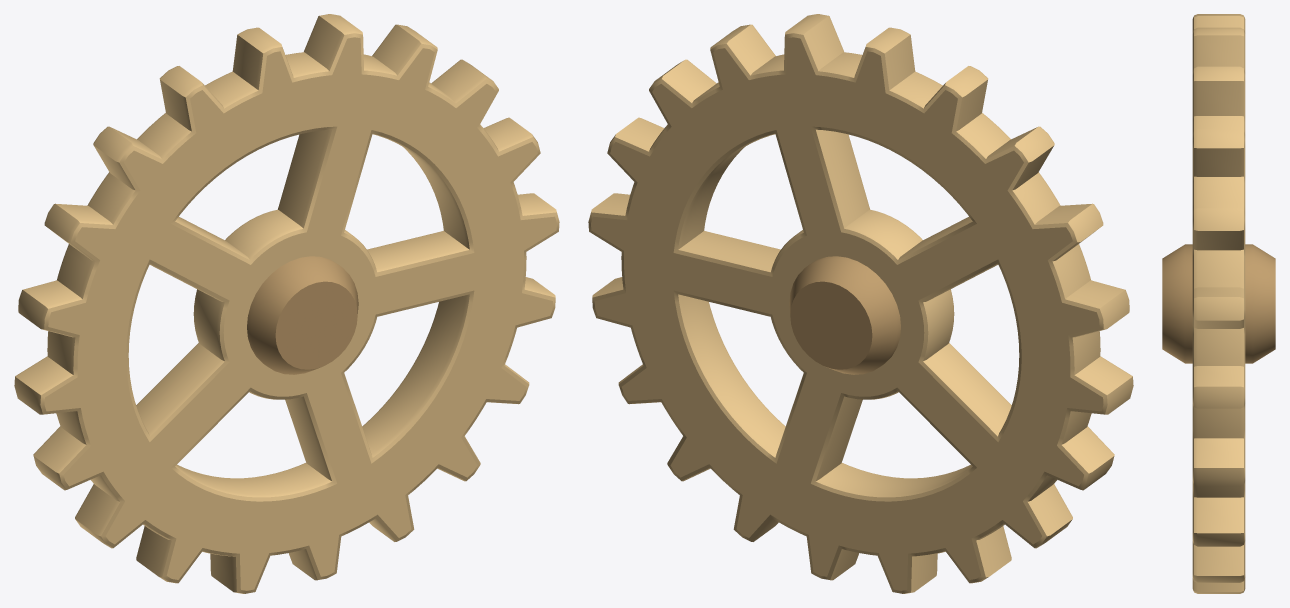
Rendered from gear_s.glb.
The picture shows the model from 3 angles, left to right: view 1: azimuth 30°, elevation 25°; view 2: azimuth 150°, elevation 25°; view 3: azimuth 270°, elevation 25°; orthographic projection. The views are drawn at different scales.
Parts seen in each view (by area): view 1: gear, hub; view 2: gear, hub; view 3: gear, hub.
Part boxes in pixels (bbox=[...]): gear: bbox=[14, 14, 559, 593]; hub: bbox=[247, 256, 358, 374]; gear: bbox=[588, 14, 1133, 593]; hub: bbox=[789, 256, 900, 374]; gear: bbox=[1192, 14, 1245, 593]; hub: bbox=[1162, 244, 1275, 363].
Bounding box in the file's own units: 2.03 × 2.03 × 0.4.
